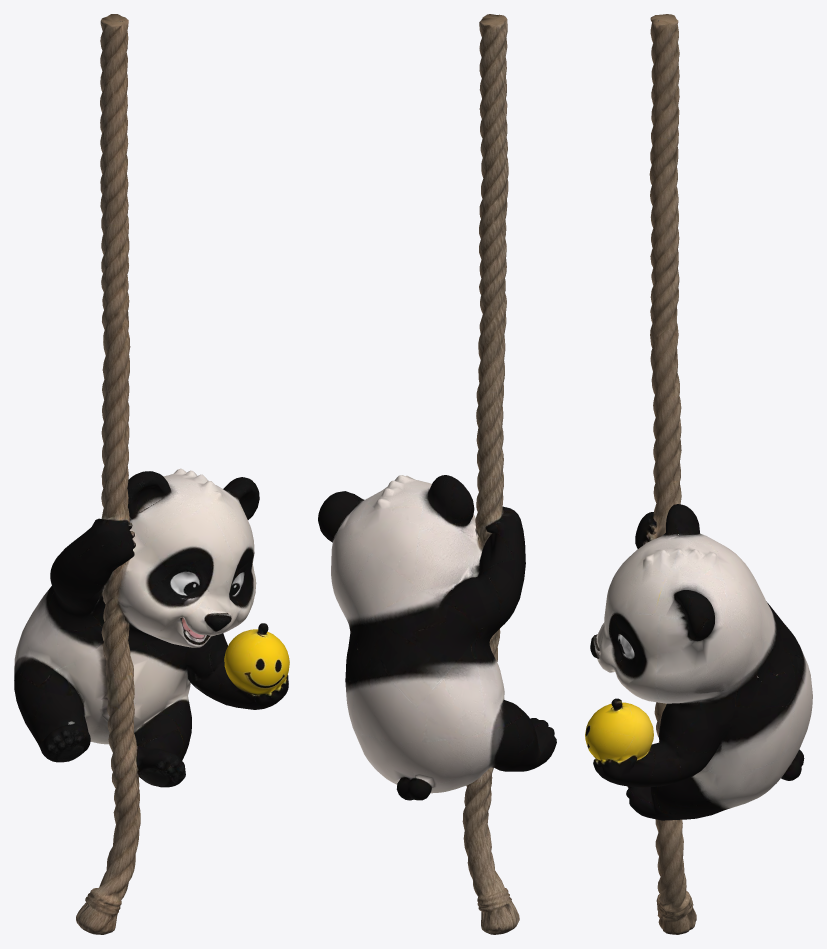
Rendered from panda.glb.
The picture shows the model from 3 angles, left to right: view 1: azimuth 30°, elevation 25°; view 2: azimuth 150°, elevation 25°; view 3: azimuth 270°, elevation 25°; orthographic projection.
Size of the model in its own units: 0.4904 by 1.9 by 0.4279.
Materials: 1 (1 with a texture image).
